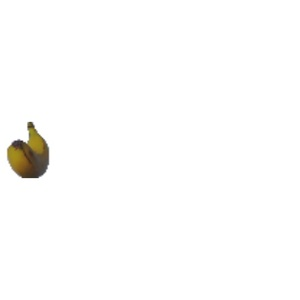banana: (5, 123, 55, 183)
